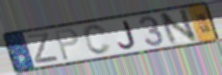3: (137, 15, 165, 49)
C: (82, 24, 114, 57)
J: (117, 19, 138, 50)
N: (157, 7, 200, 48)
P: (53, 27, 81, 62)
Z: (25, 31, 62, 65)
